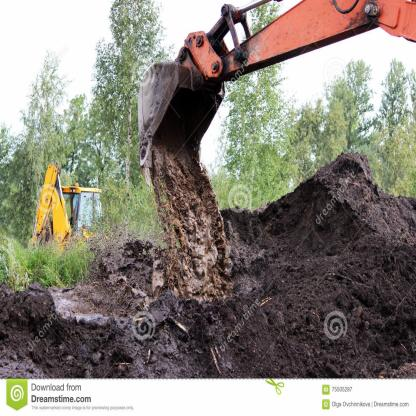excavator: (118, 2, 416, 195)
